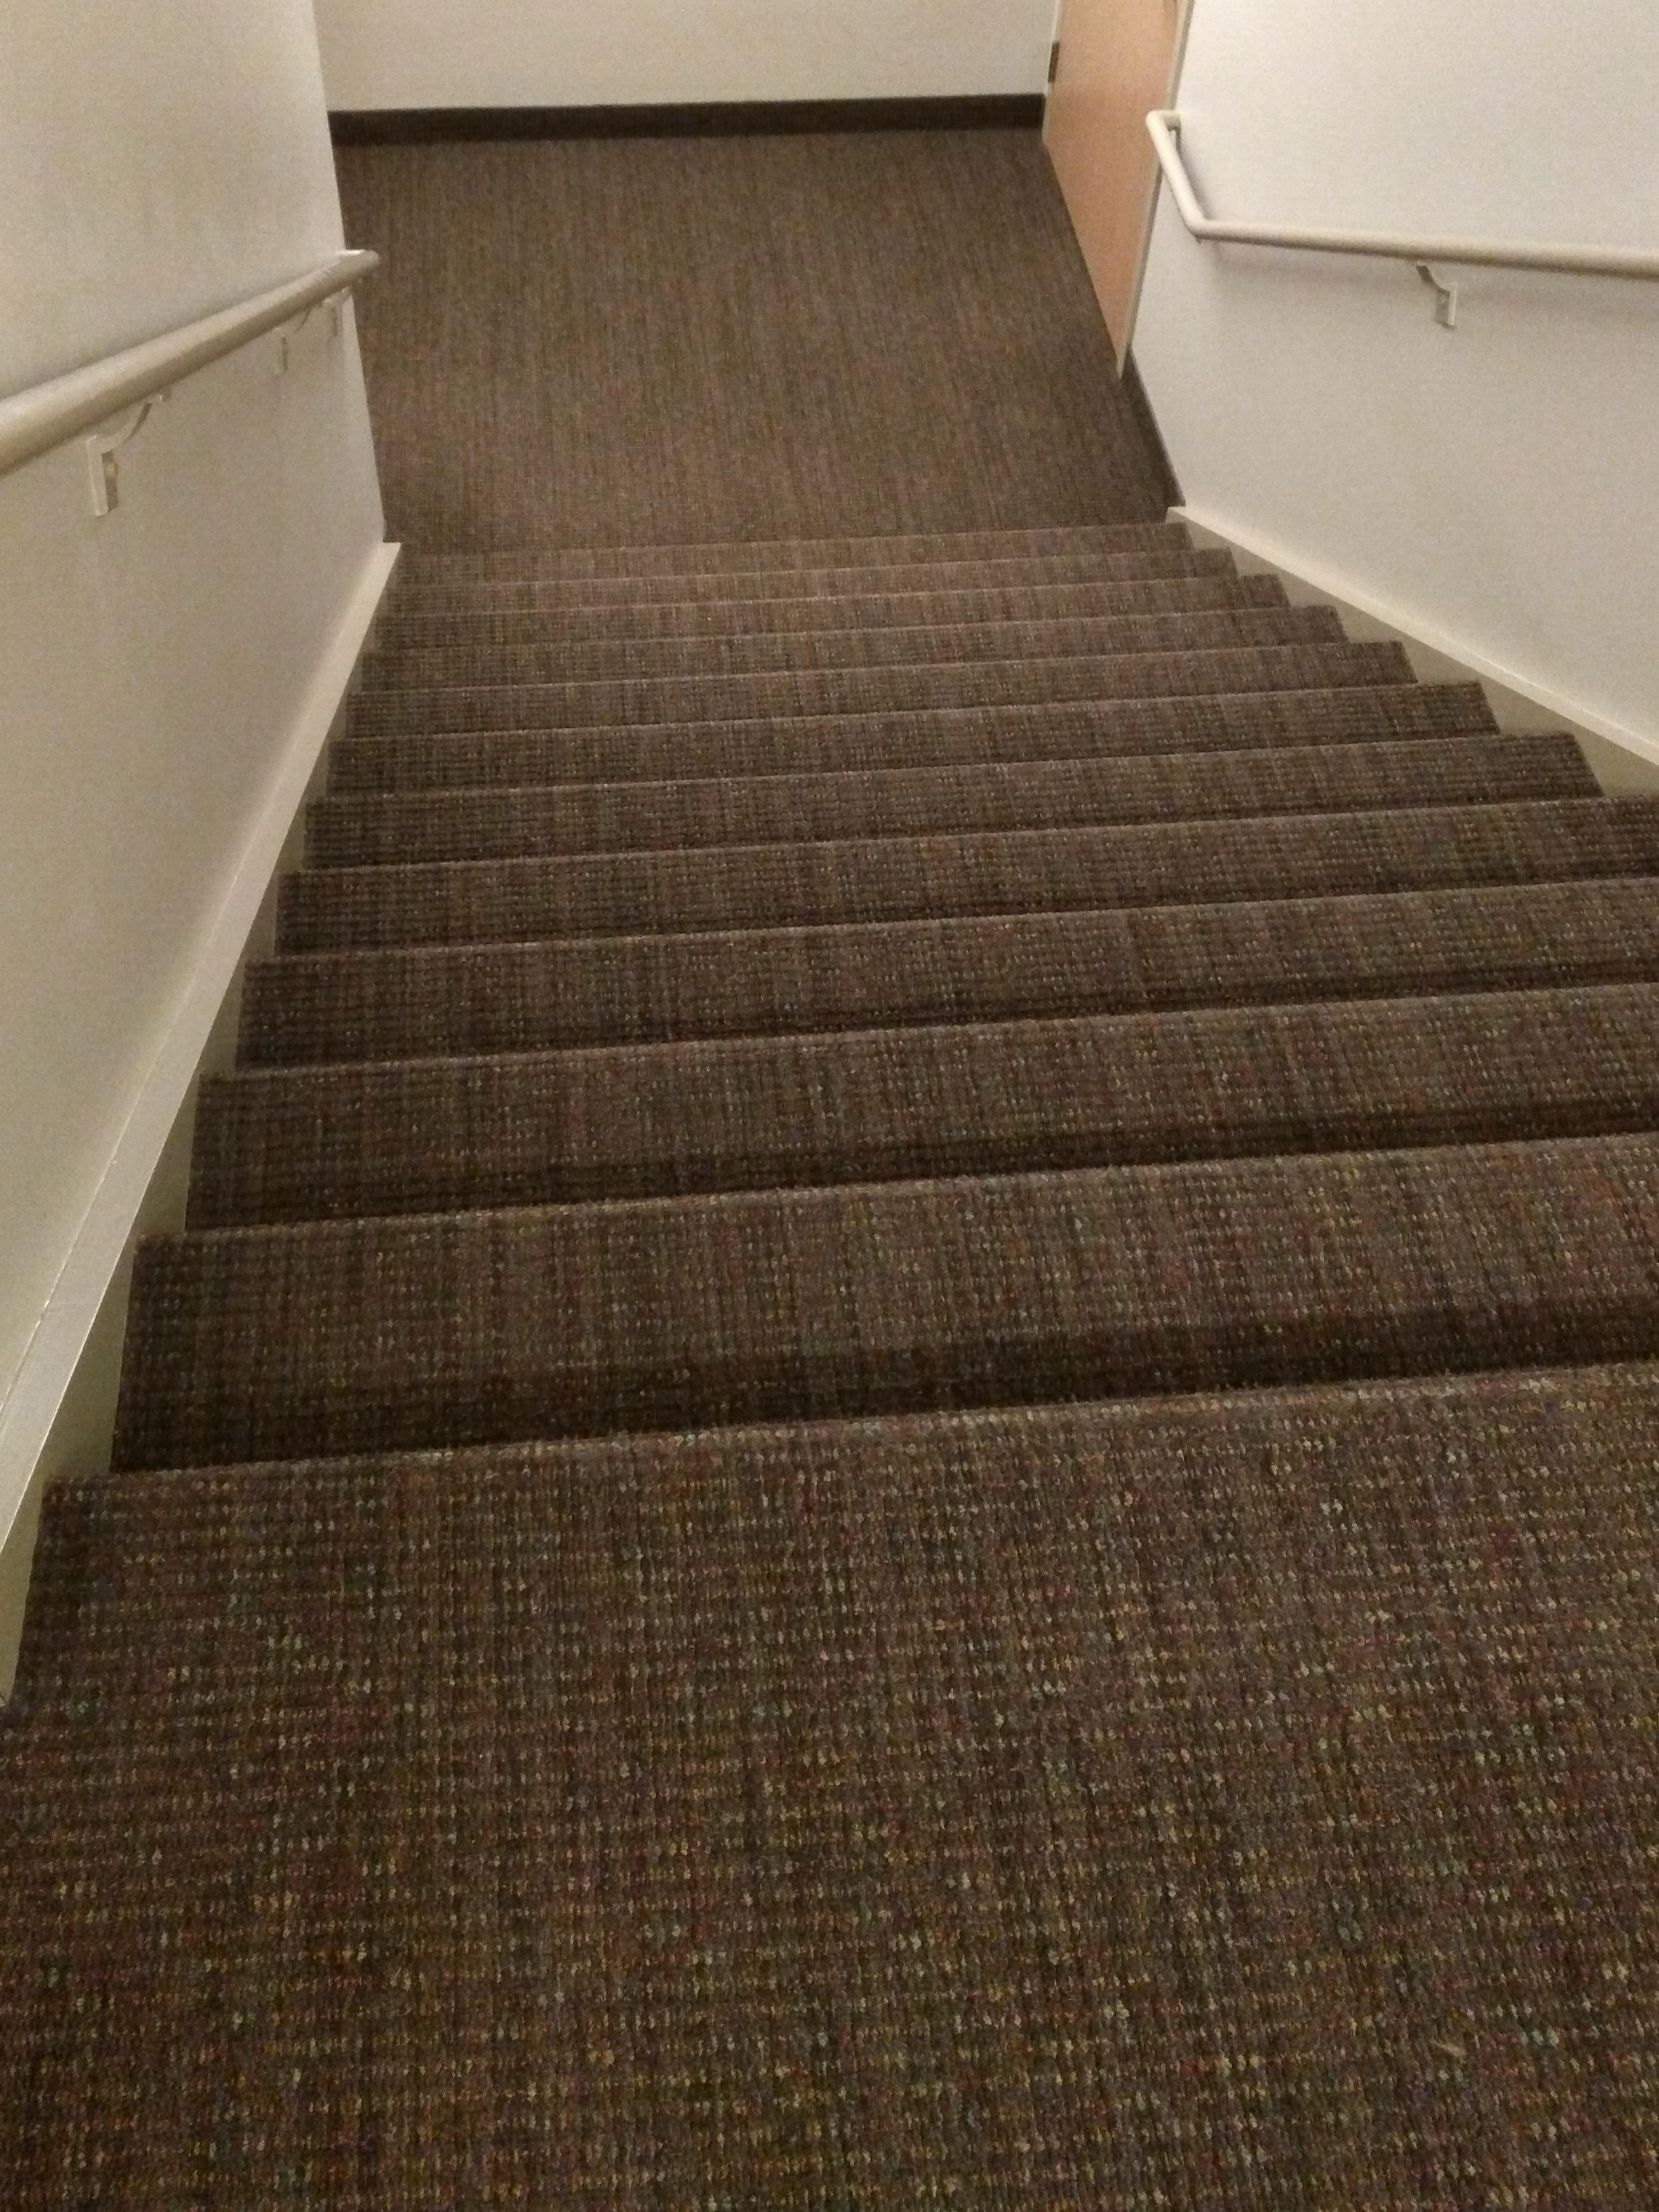stairs_down: (23, 509, 1659, 1447)
